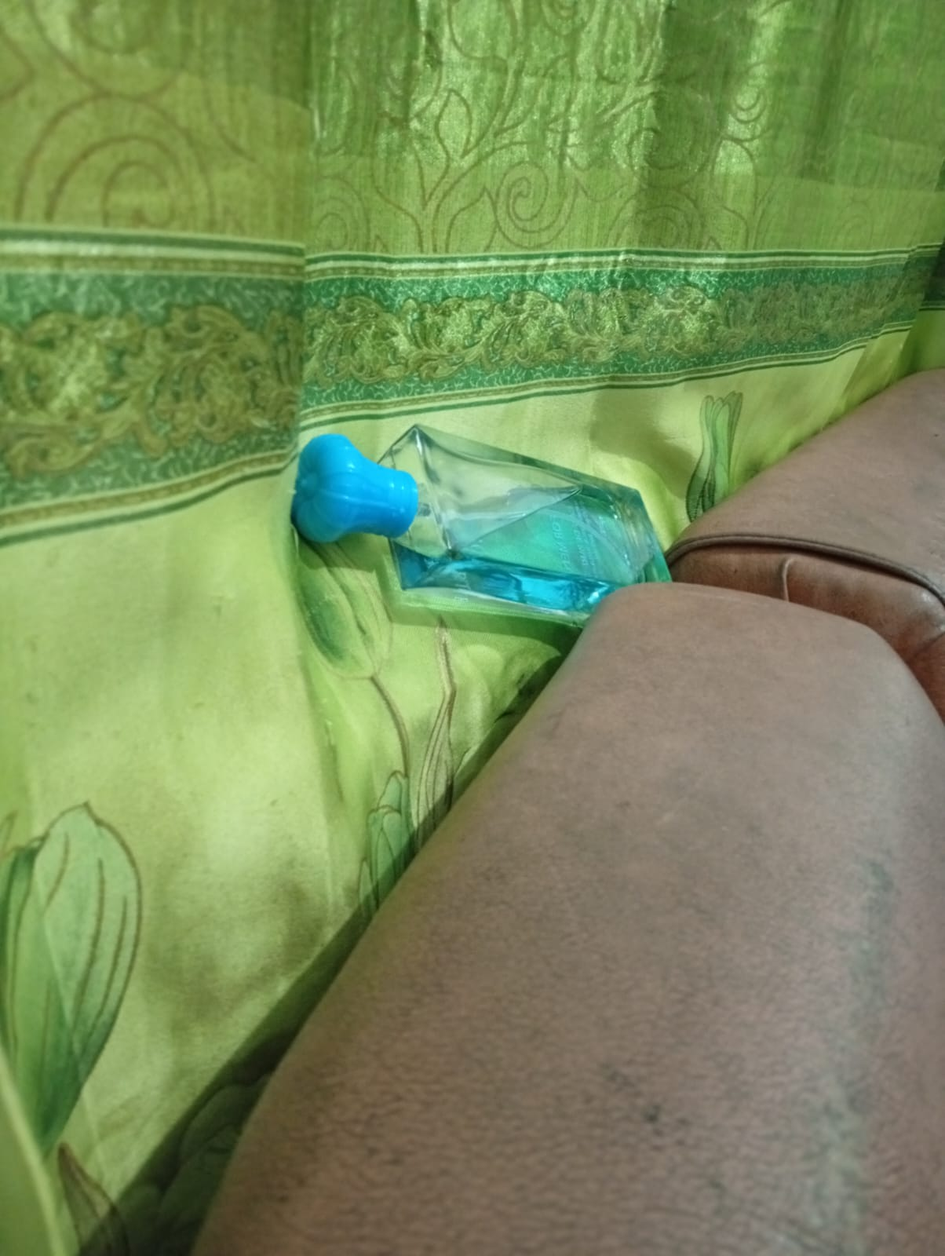Parfum: (314, 350, 738, 623)
